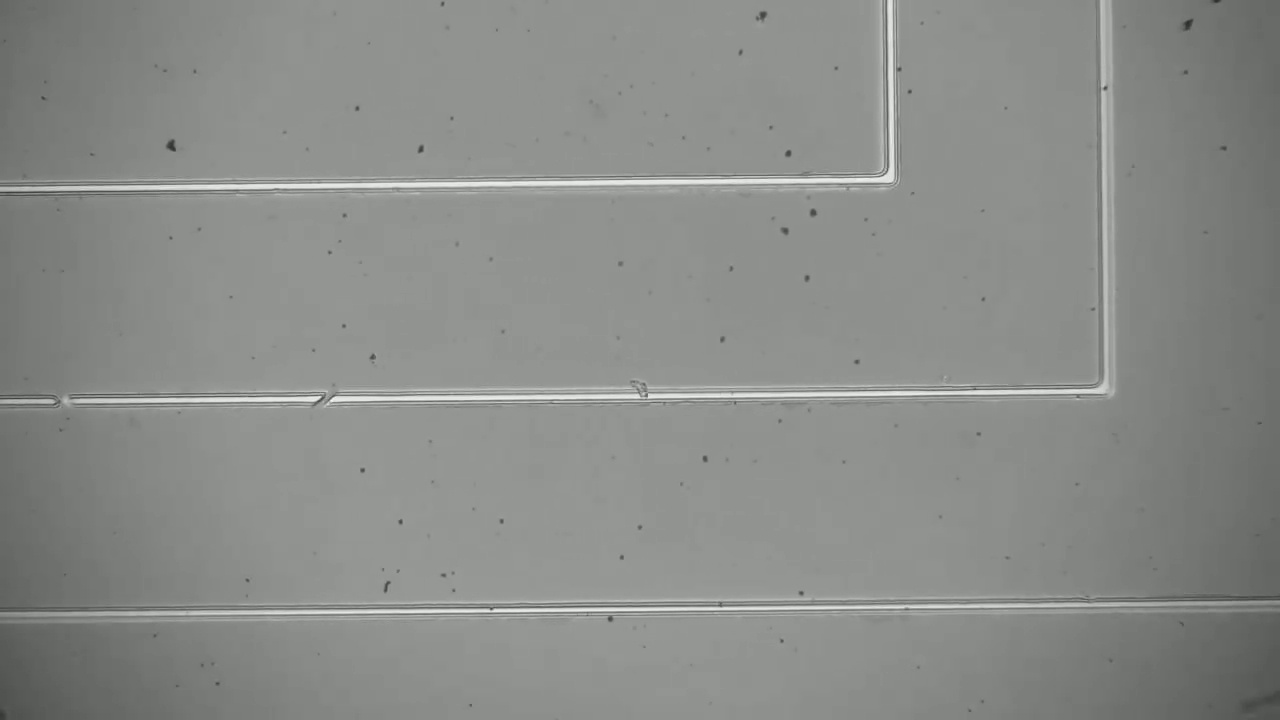open: (38, 383, 85, 420), (308, 377, 346, 418)
stains_enbedded: (621, 370, 656, 417)
